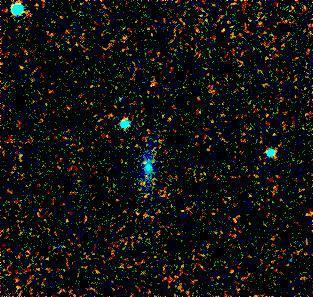star: (130, 152, 160, 182)
